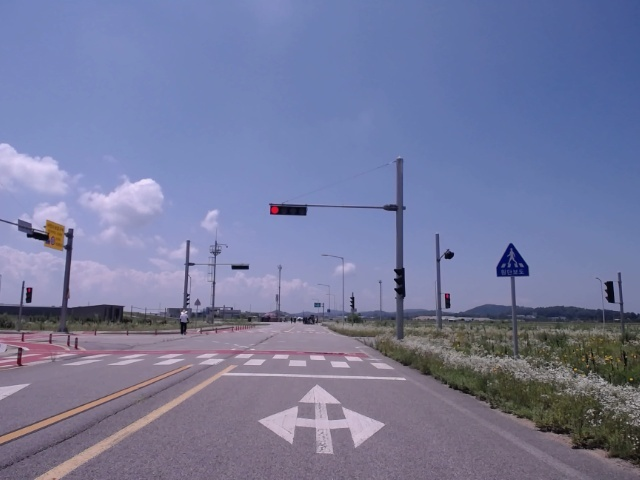red_4: (270, 206, 307, 216)
